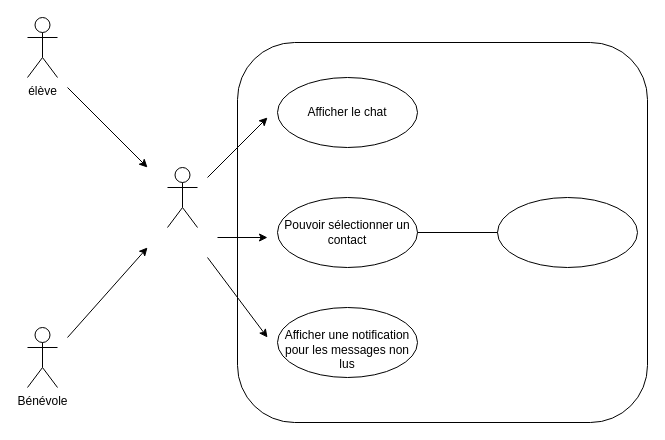
Image size: 665x440. Some labels were removed from this diagram. The shapes that lost their labels are listed below. From the top down, each one's centre as x and y in pixels, then its label:
At (x=182, y=197): "Utilisateur".
At (x=567, y=232): "Pouvoir envoyer un message".
